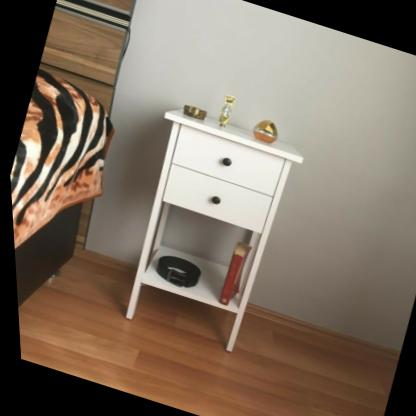Nightstand: (96, 101, 316, 360)
Wooden floor: (14, 291, 395, 416)
